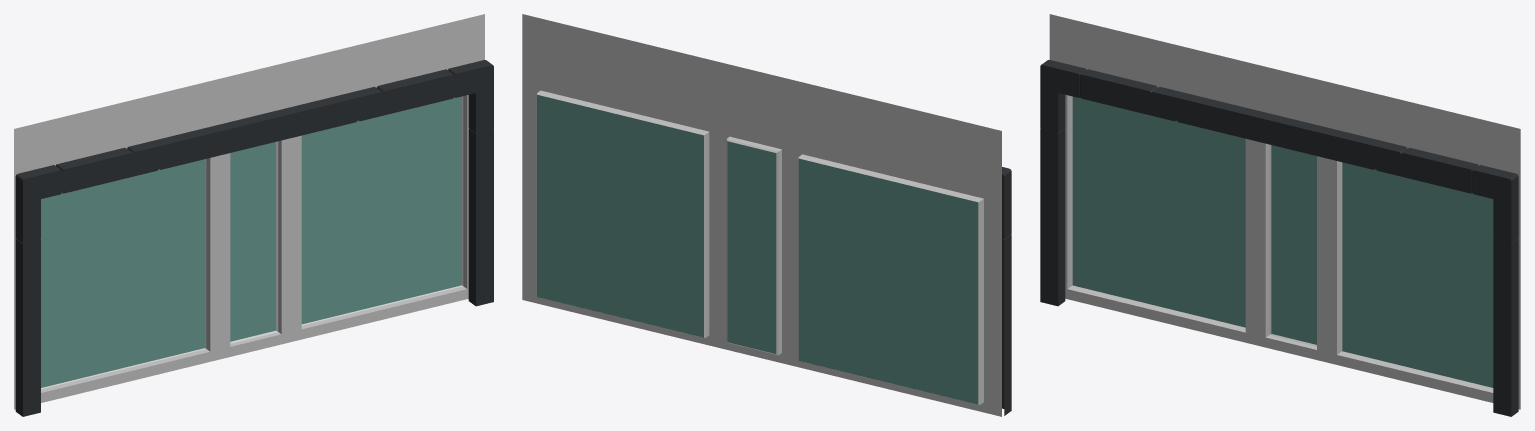
Rendered from SM_wall_glass.fbx.
The picture shows the model from 3 angles, left to right: view 1: azimuth 30°, elevation 25°; view 2: azimuth 150°, elevation 25°; view 3: azimuth 330°, elevation 25°; orthographic projection.
Visible parts, largest first — view 1: wall_glass; view 2: wall_glass; view 3: wall_glass.
Boxes of the visible parts, x1,y1,x2,y2 form: wall_glass: [14, 14, 493, 416]; wall_glass: [522, 14, 1011, 416]; wall_glass: [1040, 14, 1520, 416].
Size of the model in its own units: 677 by 386 by 33.5.
